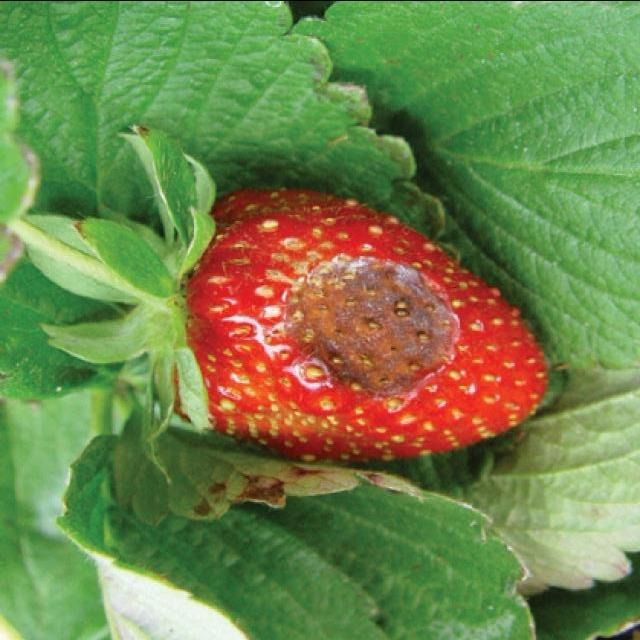Anthracnose Fruit Rot: (275, 246, 462, 410)
